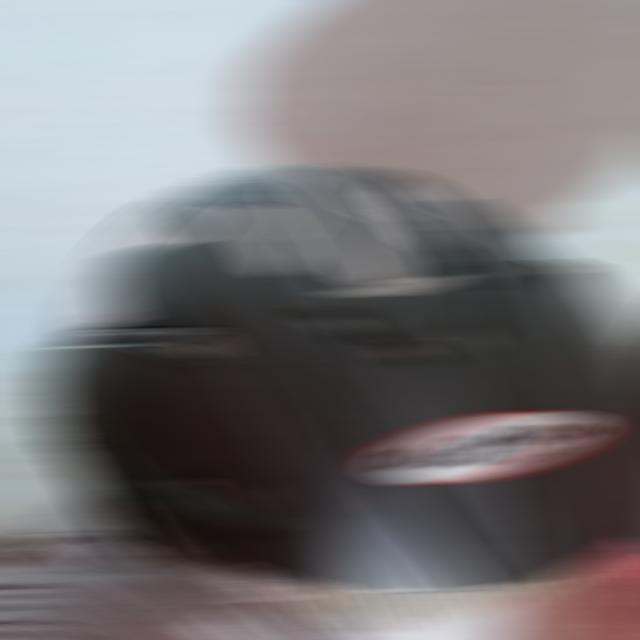With Helmet: (33, 159, 640, 640)
